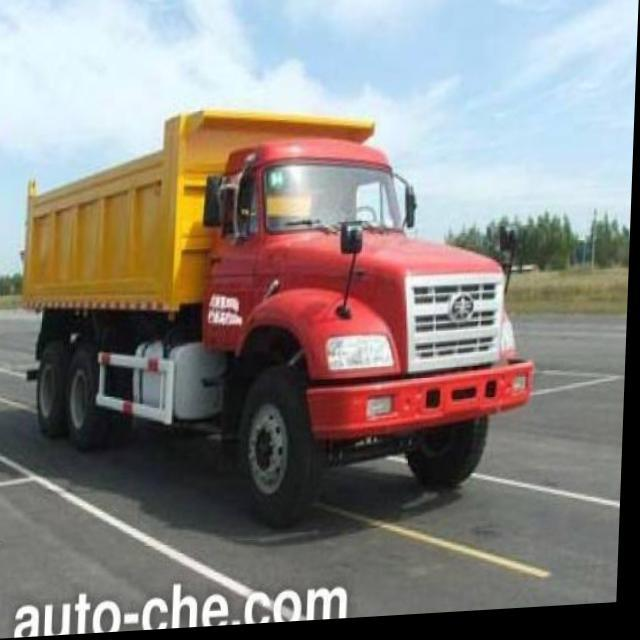uncovered: (0, 69, 546, 570)
